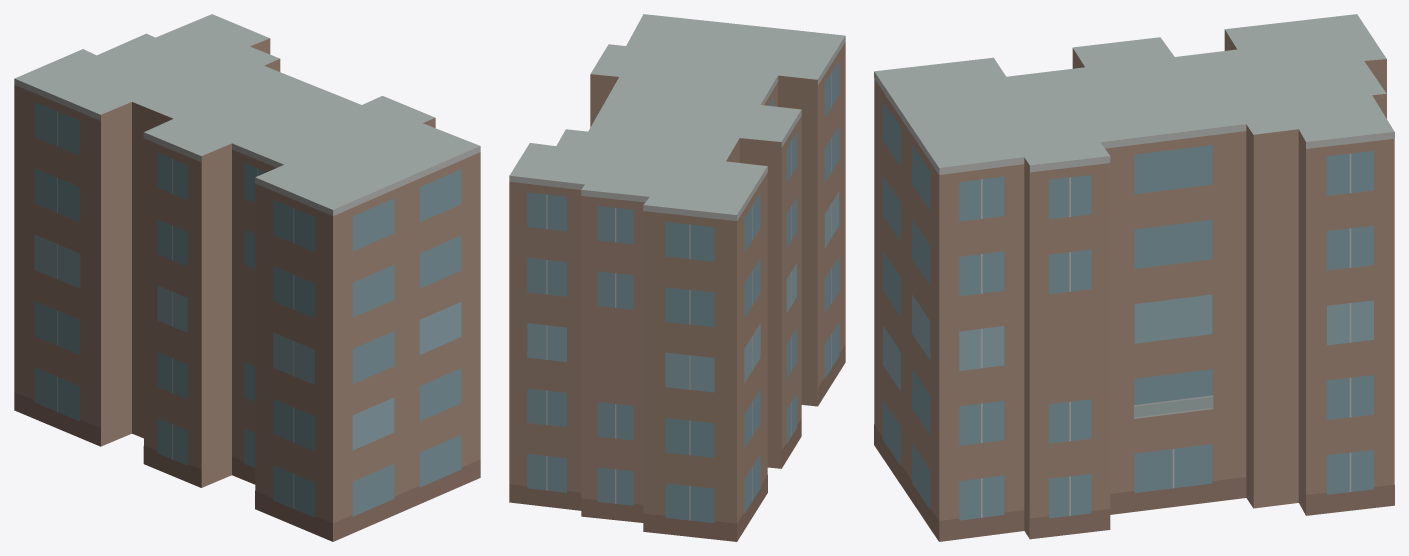
Rendered from survey-upis-32881127.glb.
3 views of the same model, side by side, from view 1: azimuth 30°, elevation 25°; view 2: azimuth 150°, elevation 25°; view 3: azimuth 270°, elevation 25° (orthographic). The views are drawn at different scales.
Visible parts, largest first — view 1: survey-upis-32881127.tmp; view 2: survey-upis-32881127.tmp; view 3: survey-upis-32881127.tmp.
Part boxes in pixels (x1,y1,x2,y2): survey-upis-32881127.tmp: [14, 14, 480, 541]; survey-upis-32881127.tmp: [509, 14, 845, 541]; survey-upis-32881127.tmp: [874, 14, 1394, 541].
Size of the model in its own units: 11.69 by 13.2 by 16.68.
